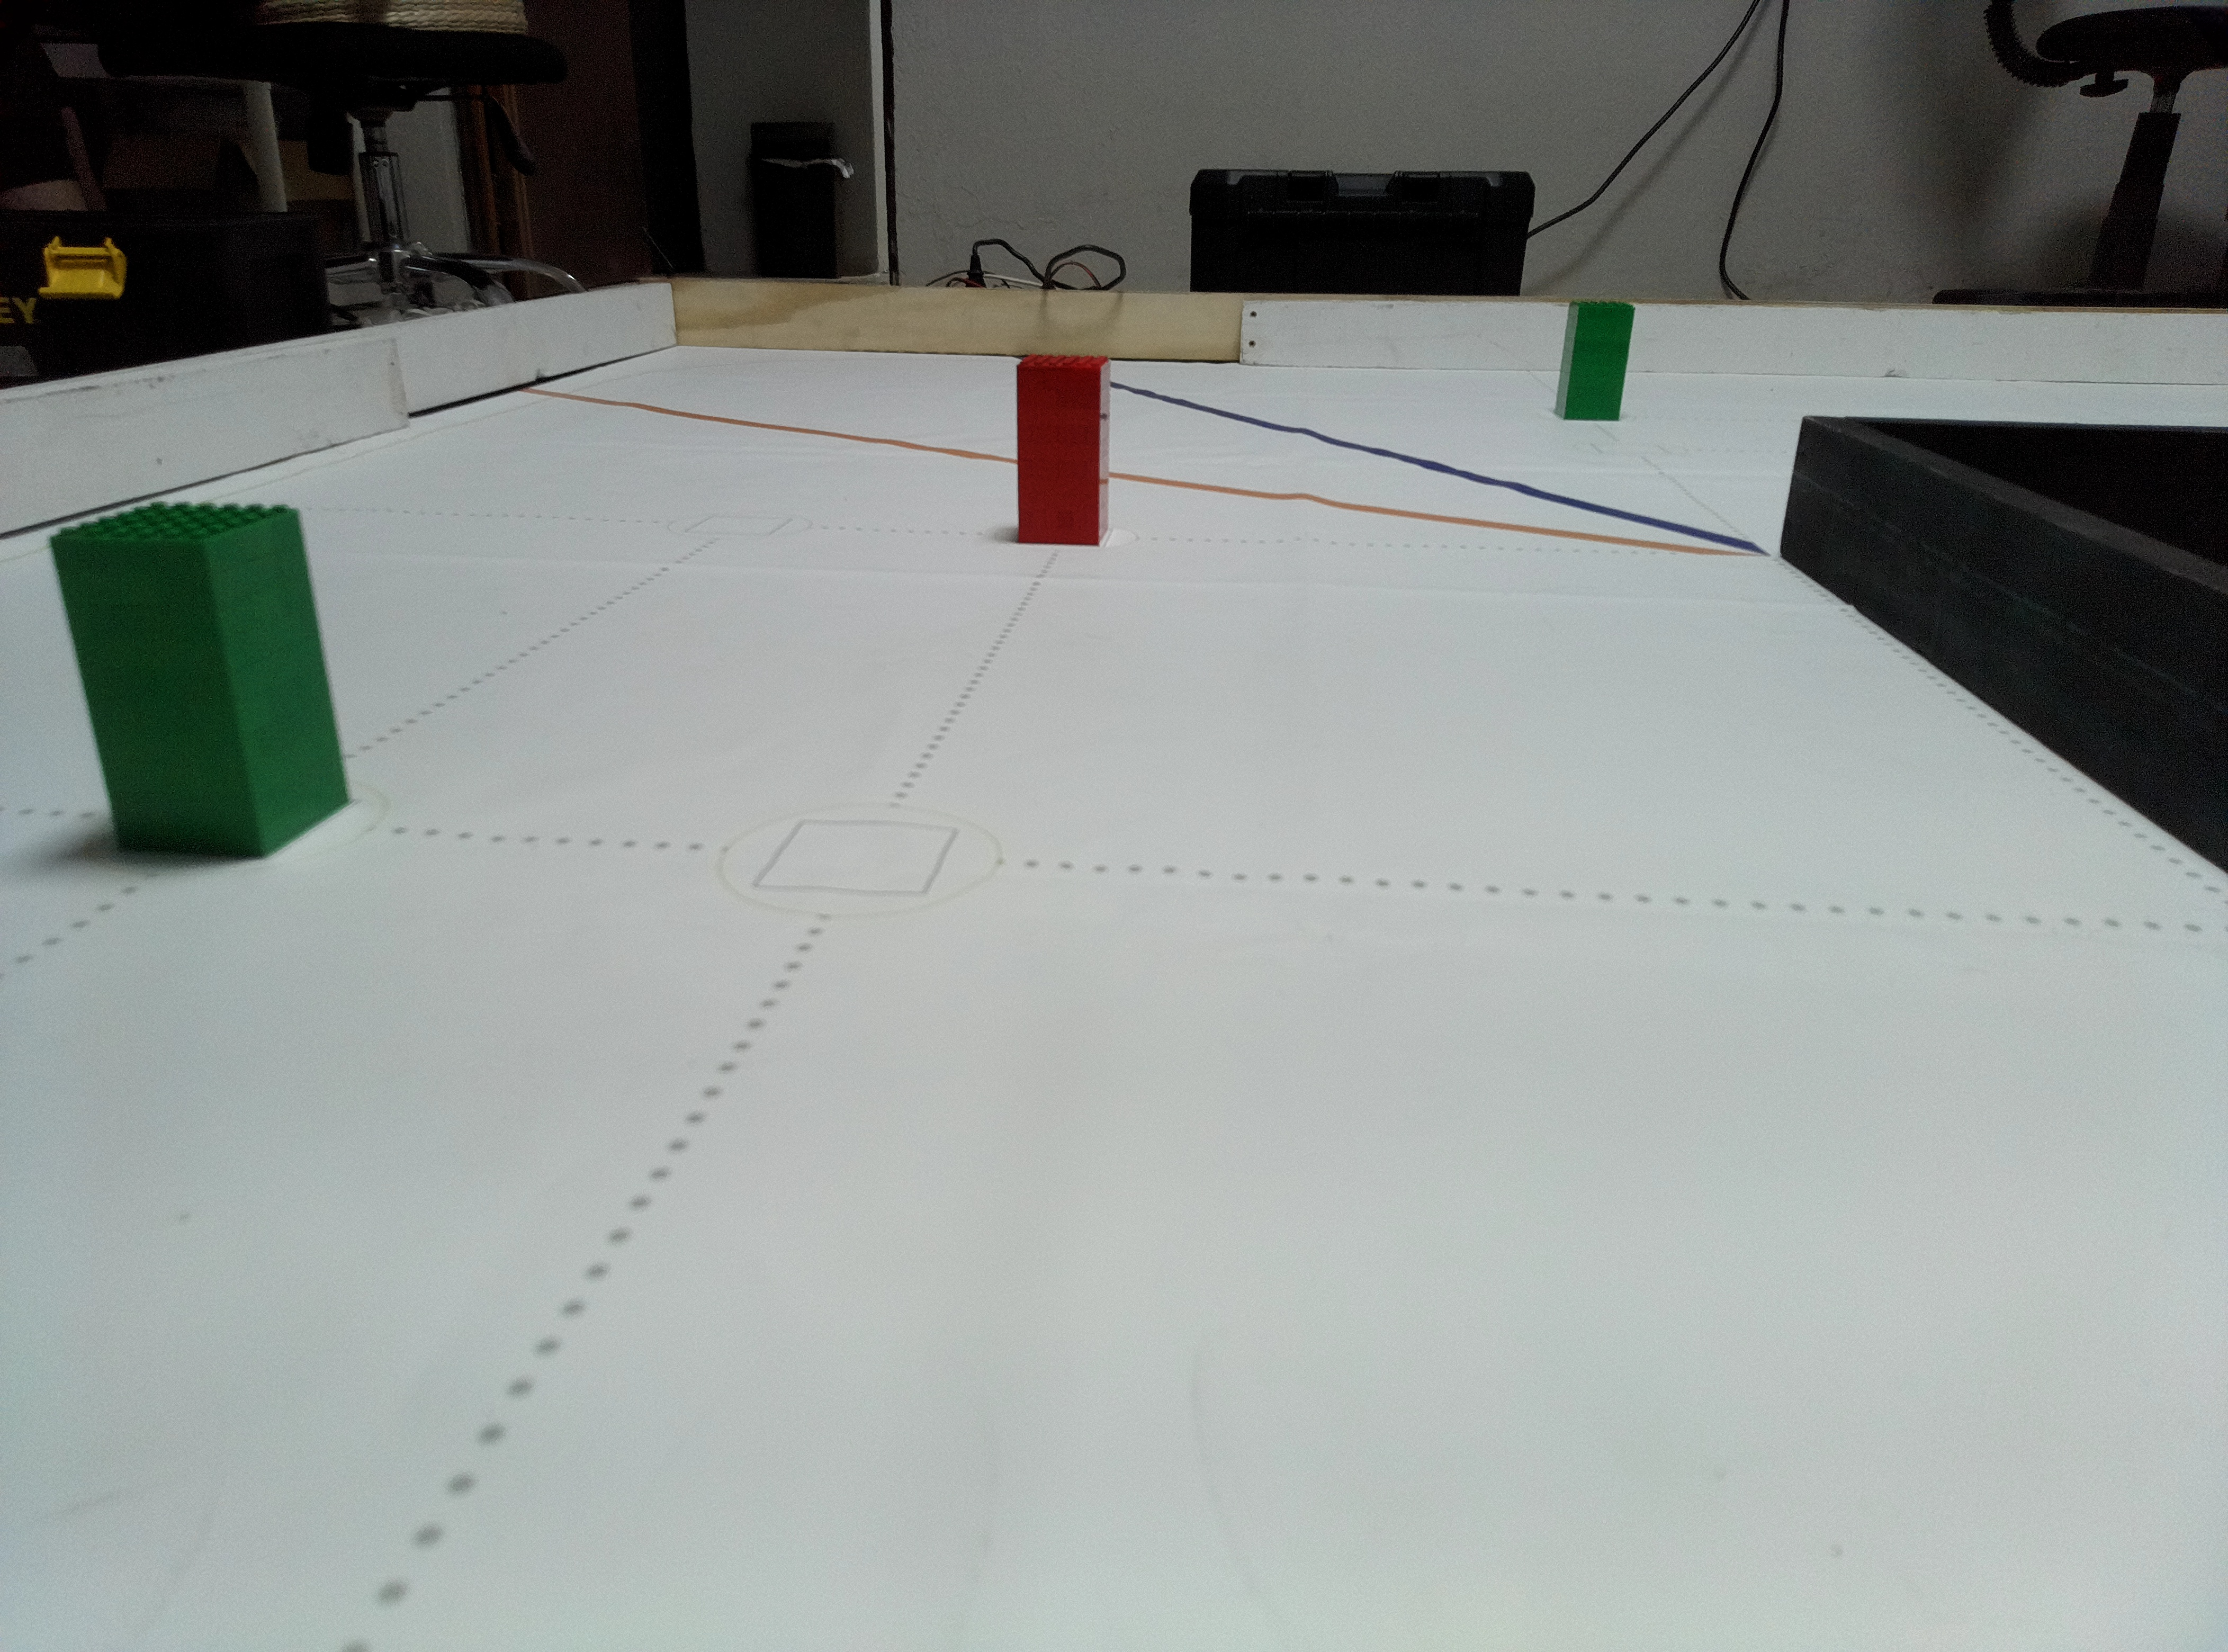greenbox: (45, 496, 356, 862), (1551, 298, 1638, 422)
redbox: (1015, 352, 1112, 547)
